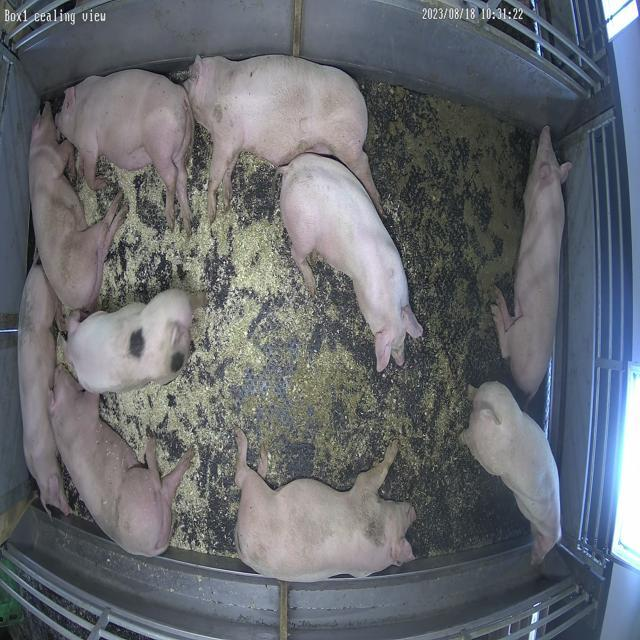Dirt: (245, 82, 532, 558)
Pig: (184, 55, 382, 220), (279, 153, 424, 372), (235, 431, 416, 583), (49, 367, 192, 558), (55, 69, 193, 234), (492, 126, 574, 398), (28, 103, 126, 310), (462, 383, 563, 566), (17, 261, 70, 516), (66, 289, 192, 394)
